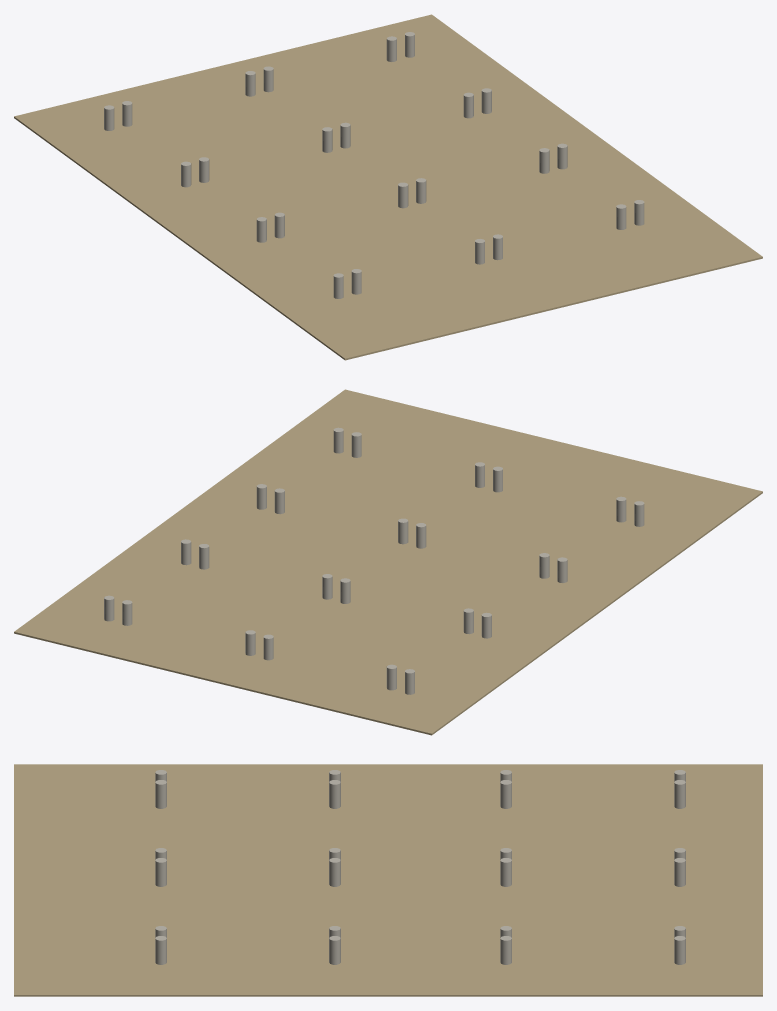
File: phase-0.glb
3 views of the same model, one above another, from view 1: azimuth 30°, elevation 25°; view 2: azimuth 150°, elevation 25°; view 3: azimuth 270°, elevation 25° (orthographic). The views are drawn at different scales.
Bounding box in the file's own units: 10.2 × 0.54 × 14.
